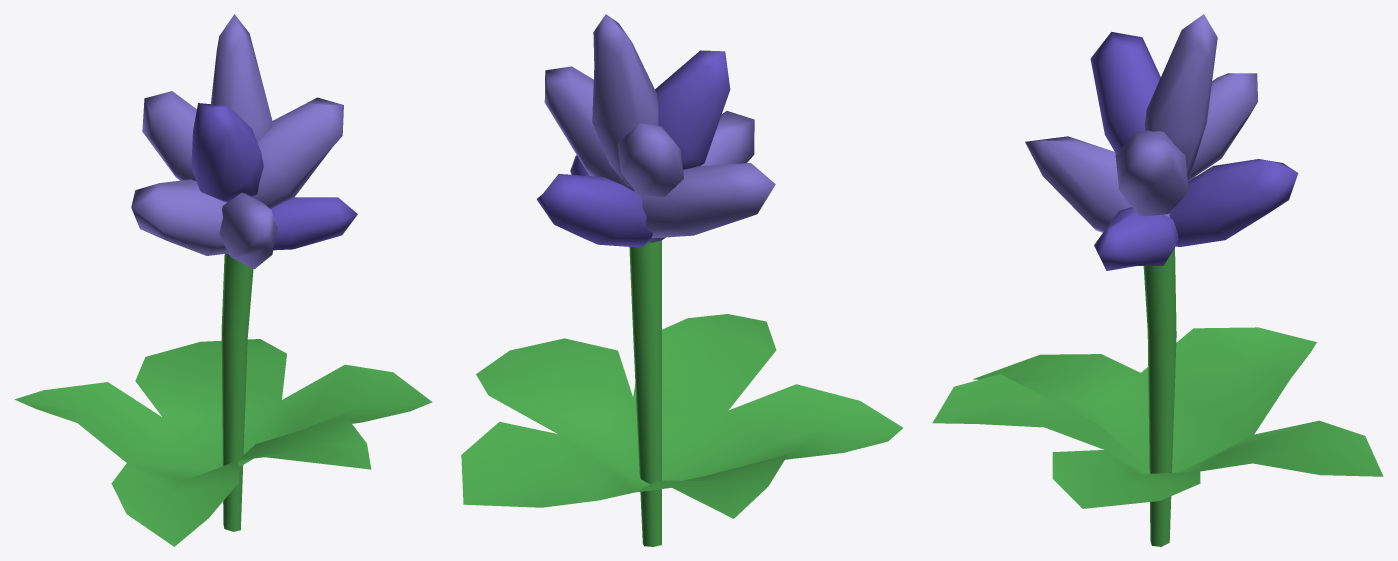
Rendered from Flower_E.fbx.
The picture shows the model from 3 angles, left to right: view 1: azimuth 30°, elevation 25°; view 2: azimuth 150°, elevation 25°; view 3: azimuth 270°, elevation 25°; orthographic projection. The views are drawn at different scales.
Parts seen in each view (by area): view 1: Flower_E; view 2: Flower_E; view 3: Flower_E.
Boxes of the visible parts, box(x1,y1,x2,y2) form: Flower_E: box(14, 14, 432, 546); Flower_E: box(461, 14, 903, 546); Flower_E: box(932, 14, 1383, 546).
Size of the model in its own units: 38.2 by 55.41 by 41.89.
